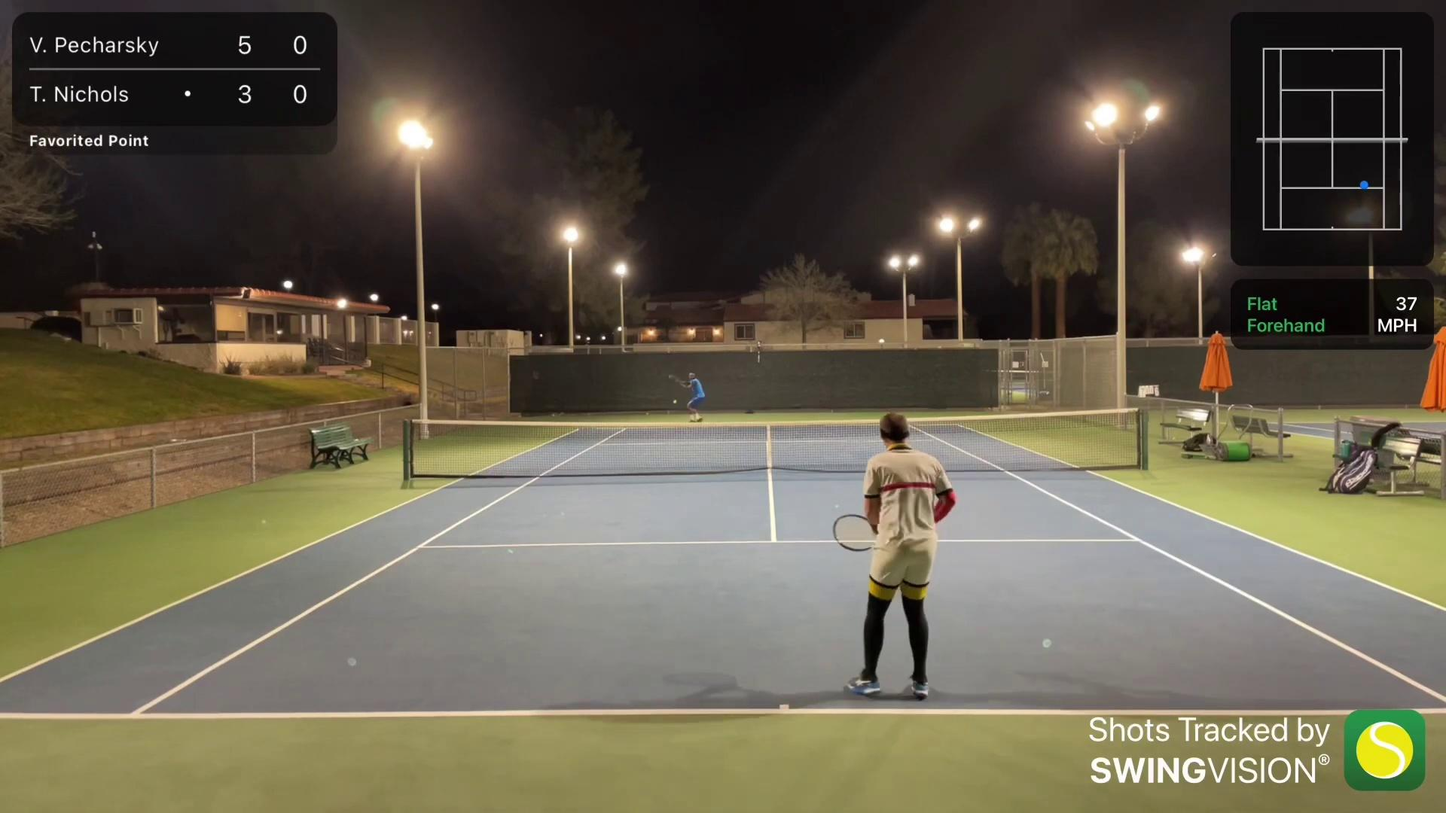ball: (673, 398, 678, 405)
